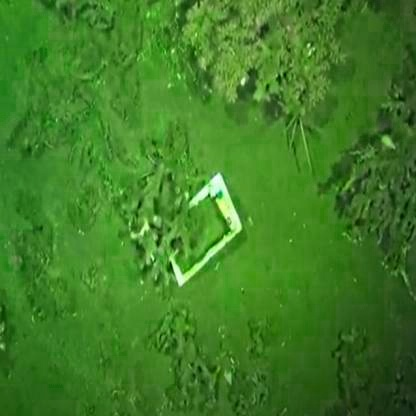misc: (153, 161, 254, 298)
